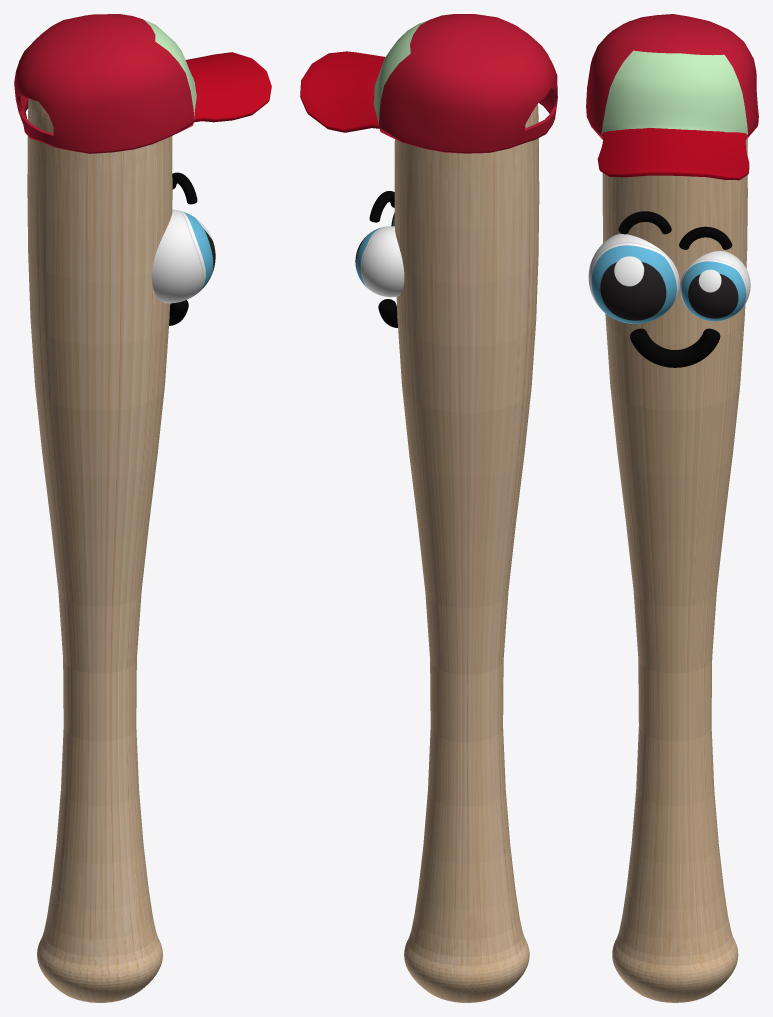
File: bategorra.glb
The picture shows the model from 3 angles, left to right: view 1: azimuth 30°, elevation 25°; view 2: azimuth 150°, elevation 25°; view 3: azimuth 270°, elevation 25°; orthographic projection.
Parts seen in each view (by area): view 1: Sphere, polySurface2, Sphere.002; view 2: Sphere, polySurface2, Sphere.001; view 3: Sphere, polySurface2, Sphere.002, Sphere.001, Circle.001, Circle, Circle.002.
Boxes of the visible parts, x1,y1,x2,y2 form: Sphere: (27,98,172,1002); polySurface2: (14,14,271,153); Sphere.002: (151,209,215,303); Sphere: (394,104,539,1002); polySurface2: (300,14,557,153); Sphere.001: (355,226,404,297); Sphere: (602,139,747,1002); polySurface2: (586,14,758,180); Sphere.002: (588,234,679,323); Sphere.001: (679,251,750,321); Circle.001: (630,328,720,367); Circle: (618,211,671,234); Circle.002: (679,226,732,249).
Bounding box in the file's own units: 0.3268 × 1.3 × 0.2107.
Materials: 8 (2 with a texture image).
